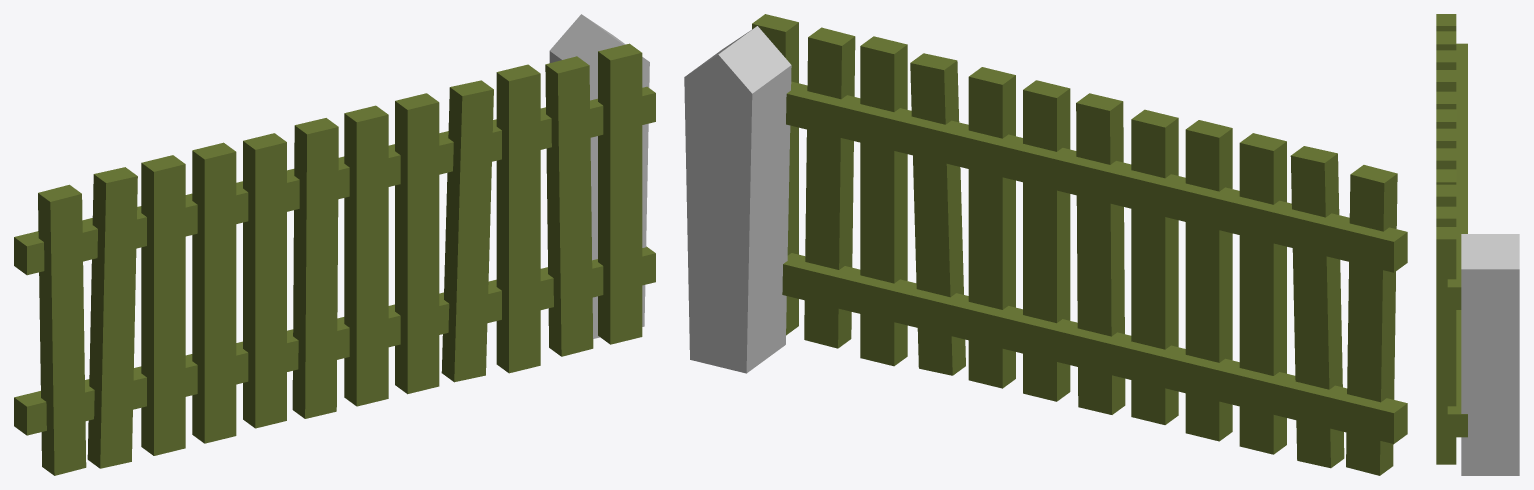
The model's file is Fence 5.fbx.
The picture shows the model from 3 angles, left to right: view 1: azimuth 30°, elevation 25°; view 2: azimuth 150°, elevation 25°; view 3: azimuth 270°, elevation 25°; orthographic projection. The views are drawn at different scales.
Parts seen in each view (by area): view 1: Fence 5; view 2: Fence 5; view 3: Fence 5.
Part boxes in pixels (x1,y1,x2,y2): Fence 5: (14, 14, 655, 475); Fence 5: (684, 14, 1407, 475); Fence 5: (1436, 14, 1519, 475).
Bounding box in the file's own units: 524 × 233 × 75.28.
